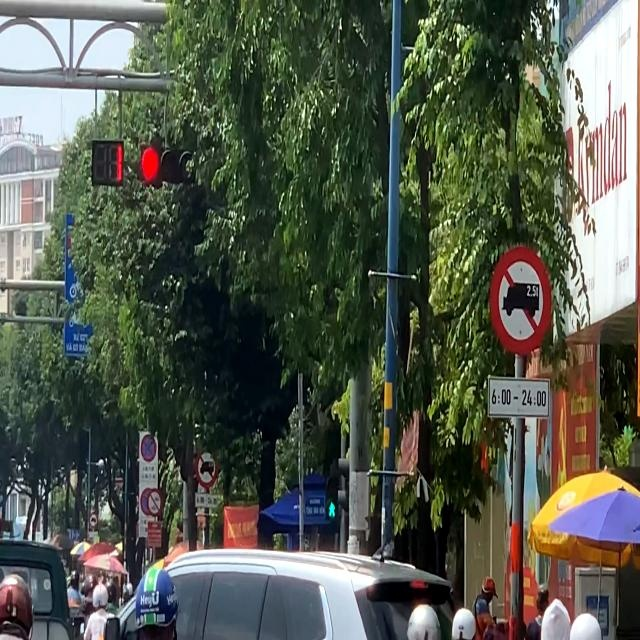bien_cam: (489, 242, 550, 357), (198, 454, 217, 487)
